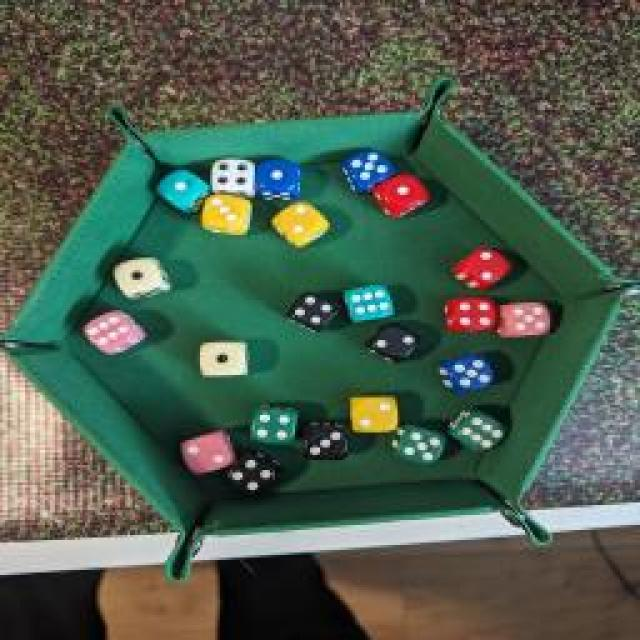dice_1: (108, 256, 180, 304), (367, 170, 435, 220), (191, 337, 259, 385), (154, 166, 216, 216), (244, 158, 308, 200)
dice_2: (452, 244, 516, 294), (268, 200, 334, 248), (364, 320, 424, 368), (175, 428, 237, 474), (344, 392, 406, 436)
dice_3: (195, 189, 255, 241), (298, 420, 354, 462)
dice_4: (242, 404, 310, 446), (219, 449, 279, 496), (435, 295, 505, 333), (280, 290, 340, 332), (201, 154, 254, 194)
dice_5: (493, 296, 555, 342), (339, 150, 396, 195), (393, 420, 445, 468), (437, 353, 495, 395)
dice_6: (438, 408, 510, 458), (80, 310, 150, 355), (345, 279, 400, 321)
